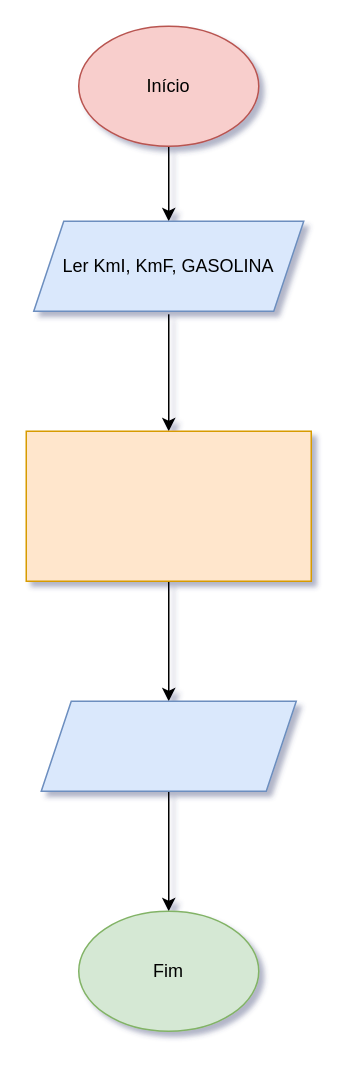
The diagram is 347 pixels wide and 1067 high, and some of its shapes have lost their labels. Each missing label, with the box of its shape:
Escrever GastoAos100: (40, 700, 296, 791)
GastoAos100 = (100 * GASOLINA) / (KmF - KmI): (25, 430, 311, 581)
